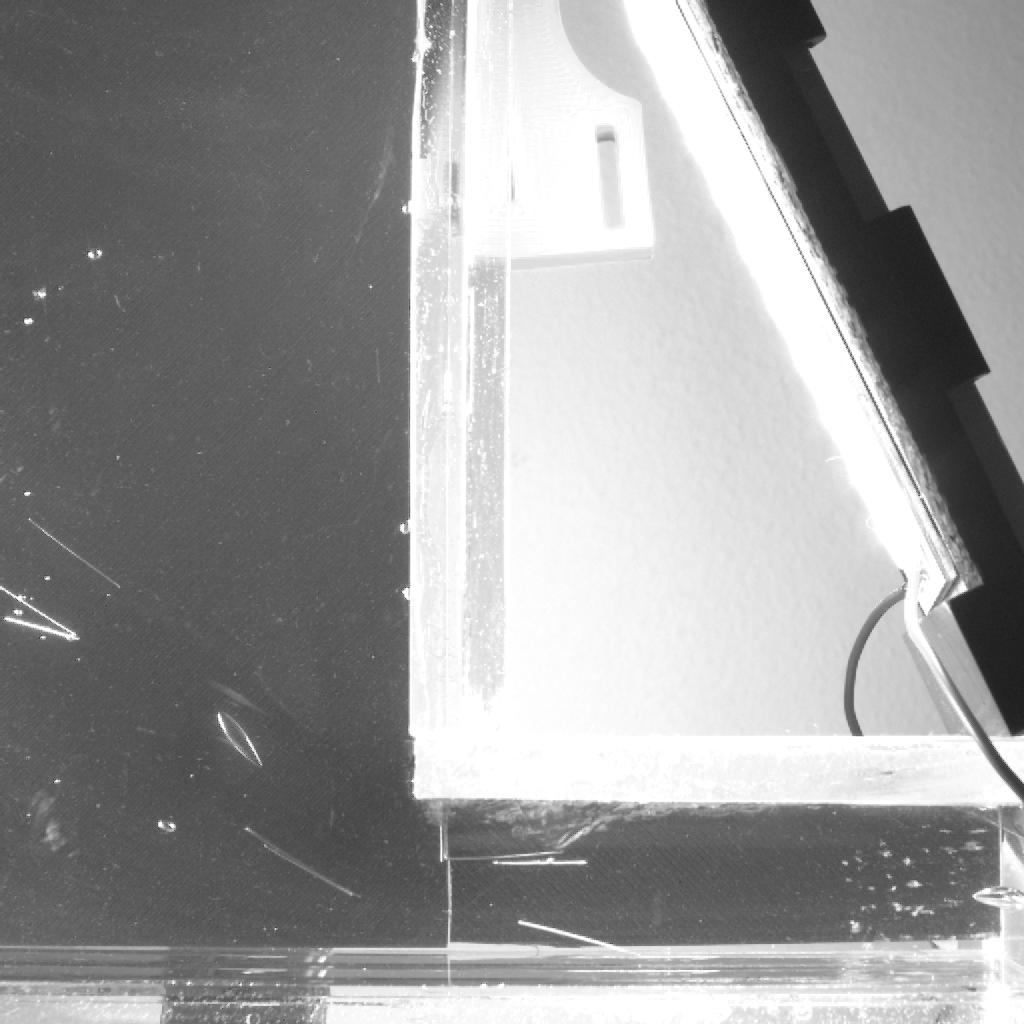Fiber: (241, 824, 352, 898), (26, 516, 122, 592), (261, 844, 363, 902), (521, 921, 649, 958), (0, 584, 78, 642), (437, 845, 567, 865), (2, 613, 79, 643), (486, 858, 588, 867)
